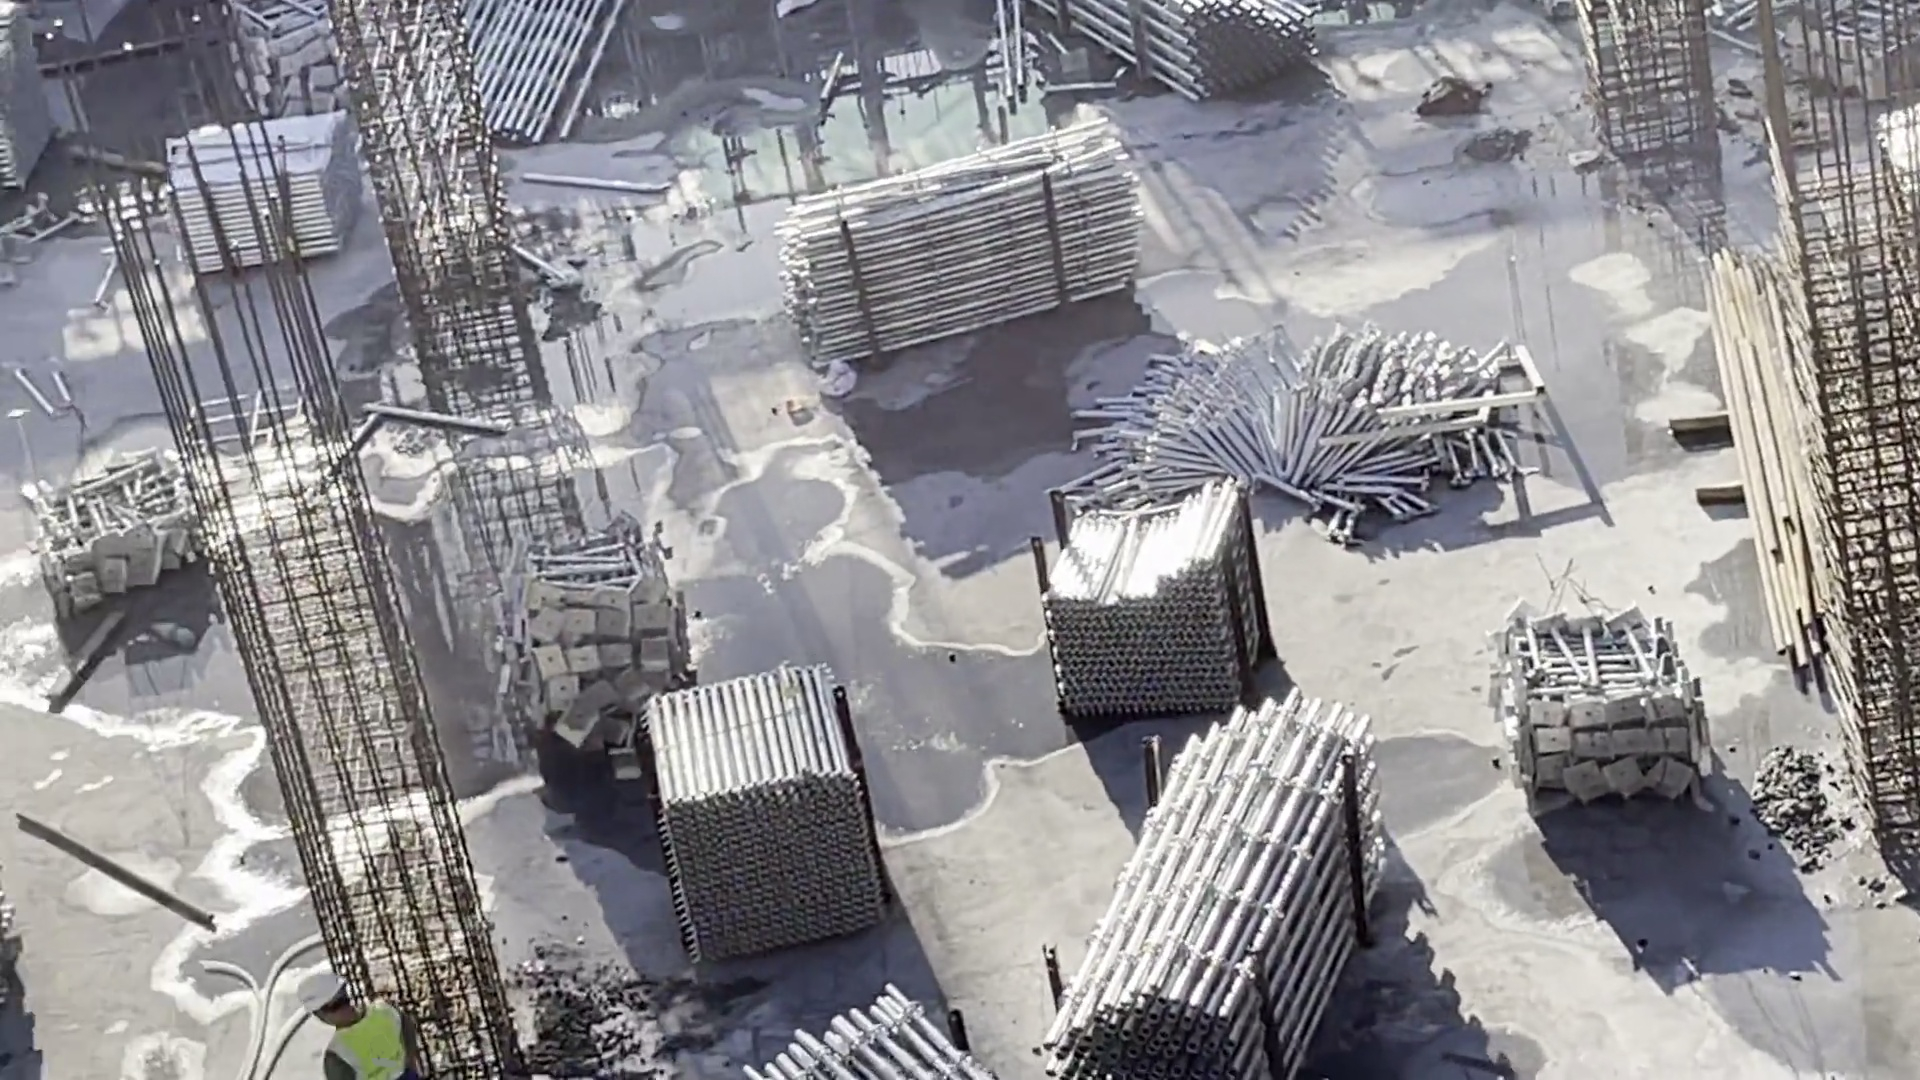helmet: (289, 975, 348, 1014)
person: (284, 971, 419, 1080)
scaffold: (1062, 725, 1401, 1080), (784, 137, 1133, 371), (1127, 335, 1512, 509), (668, 667, 849, 943), (1029, 505, 1248, 725), (177, 122, 356, 269), (1034, 1, 1317, 85), (744, 988, 997, 1080), (445, 1, 590, 127)
vest: (327, 1014, 413, 1079)
